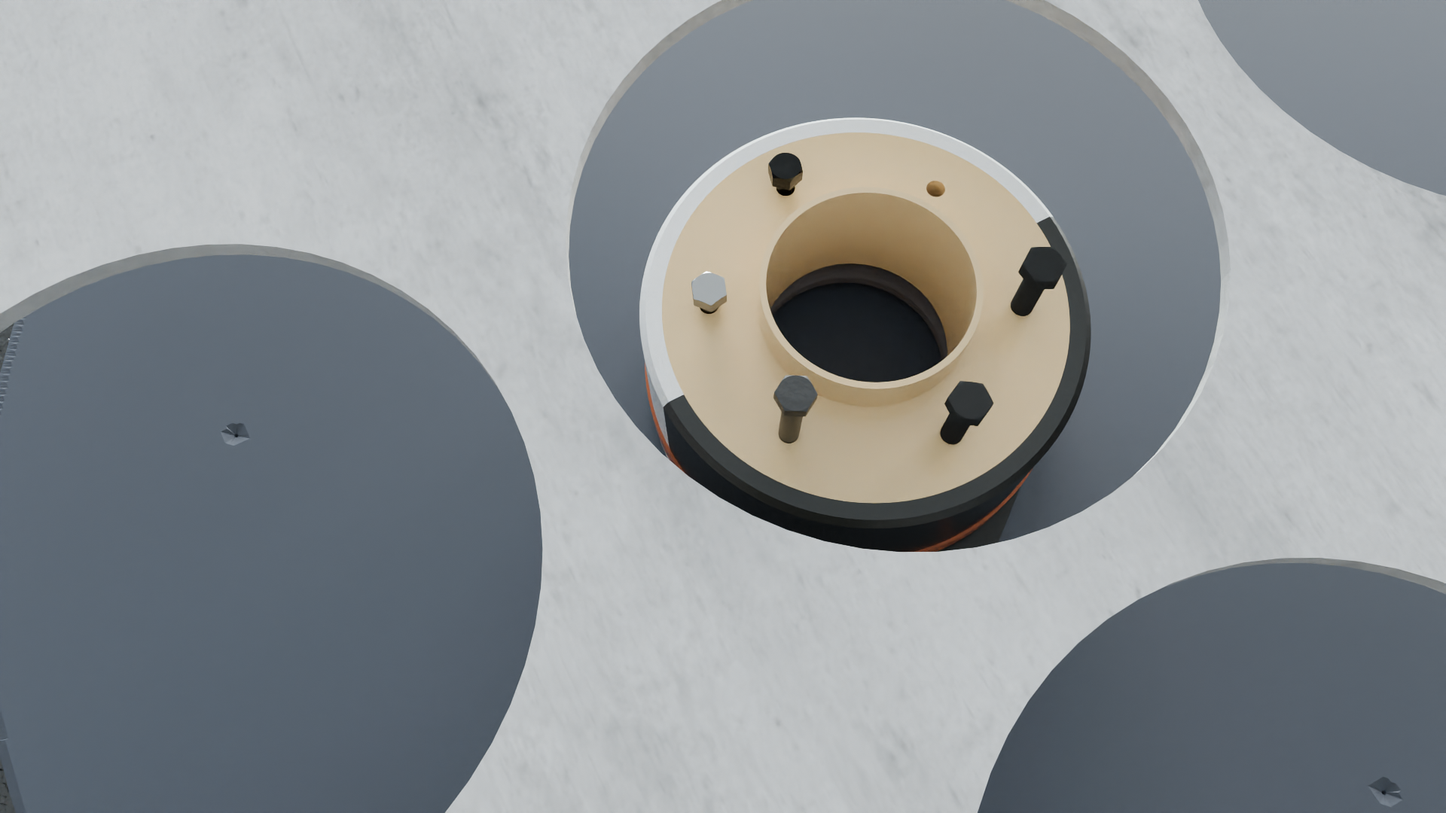bolt: (947, 381, 993, 421), (774, 376, 818, 412), (1022, 247, 1067, 282), (691, 272, 727, 306), (768, 153, 803, 183)
